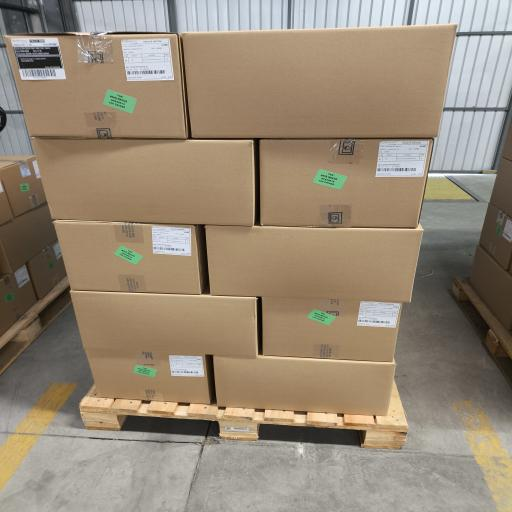pallet: (80, 384, 408, 449), (0, 277, 71, 373), (453, 278, 511, 385)
